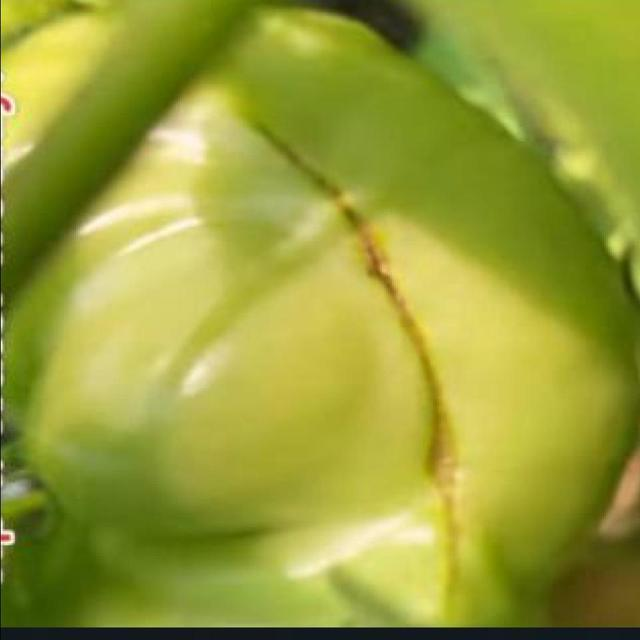Cracking Fruit: (134, 65, 348, 422)
